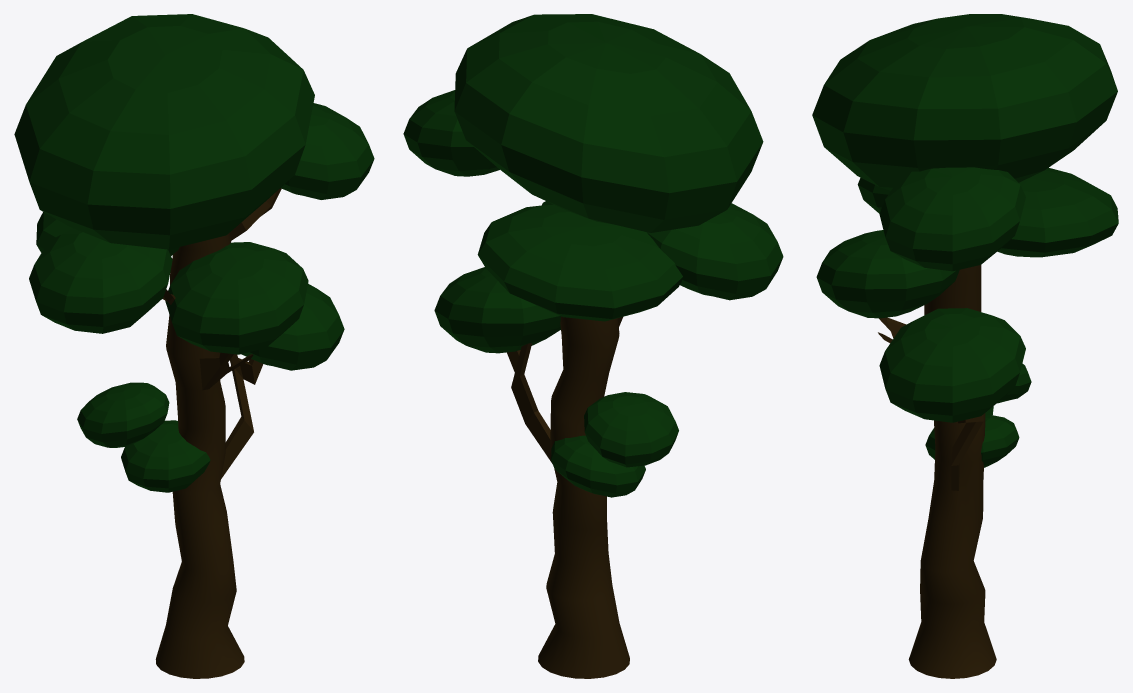
3 renders of one model, left to right at view 1: azimuth 30°, elevation 25°; view 2: azimuth 150°, elevation 25°; view 3: azimuth 270°, elevation 25°, orthographic. The views are drawn at different scales.
Visible parts, largest first — view 1: polySurface3 (×2); view 2: polySurface3 (×2); view 3: polySurface3 (×2).
Boxes of the visible parts, x1=… form: polySurface3 (×2): x1=14, y1=14, x2=374, y2=678; polySurface3 (×2): x1=403, y1=14, x2=783, y2=678; polySurface3 (×2): x1=812, y1=14, x2=1118, y2=678.
Size of the model in its own units: 1.15 by 2 by 0.8902.
